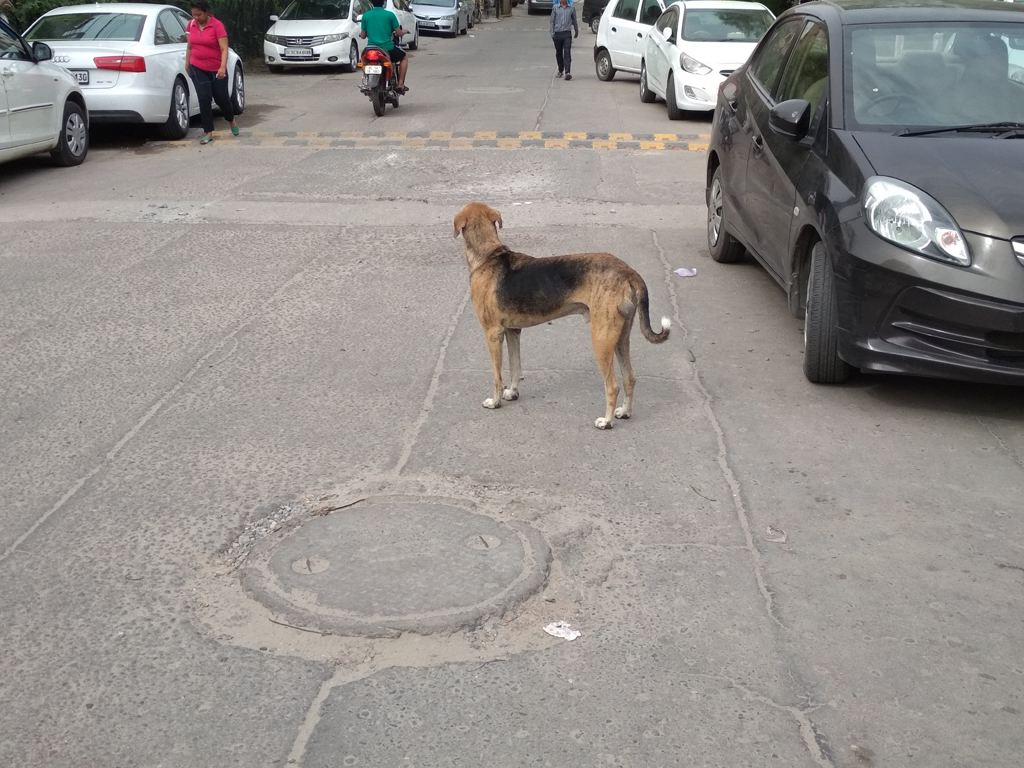dog: (453, 202, 671, 429)
